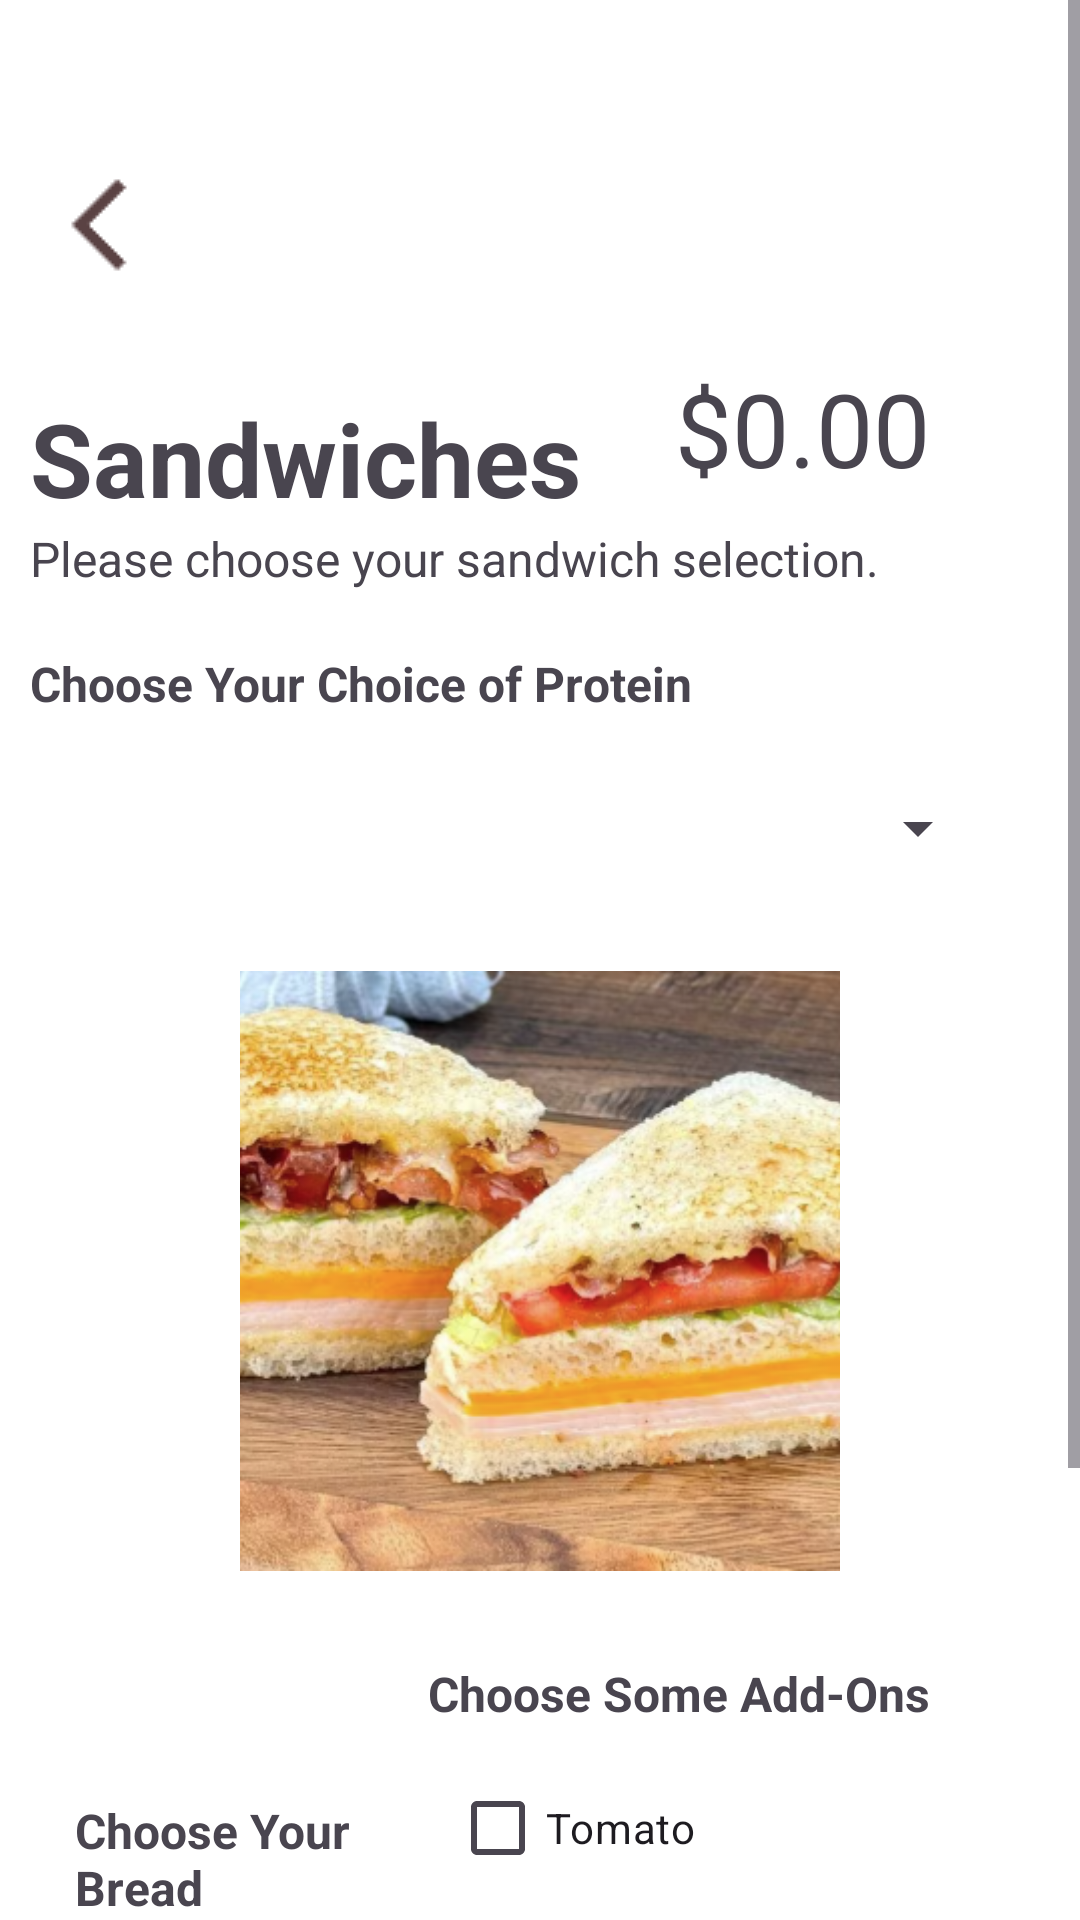

Named icons in this screenshot (1080×1920) and their centers, (x,y):
back: (99,225)
